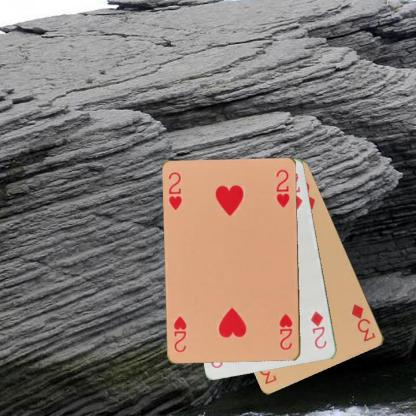2d: (308, 309, 328, 350)
2h: (166, 170, 183, 212), (277, 311, 294, 351)
3d: (349, 301, 377, 343)
